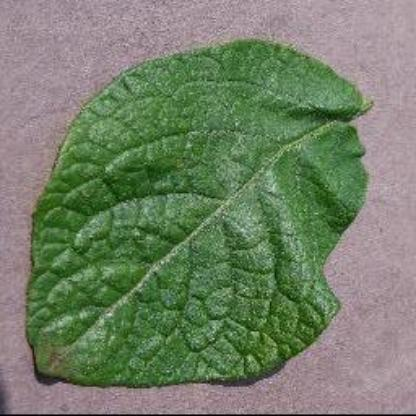Healthy-plant: (24, 32, 370, 392)
